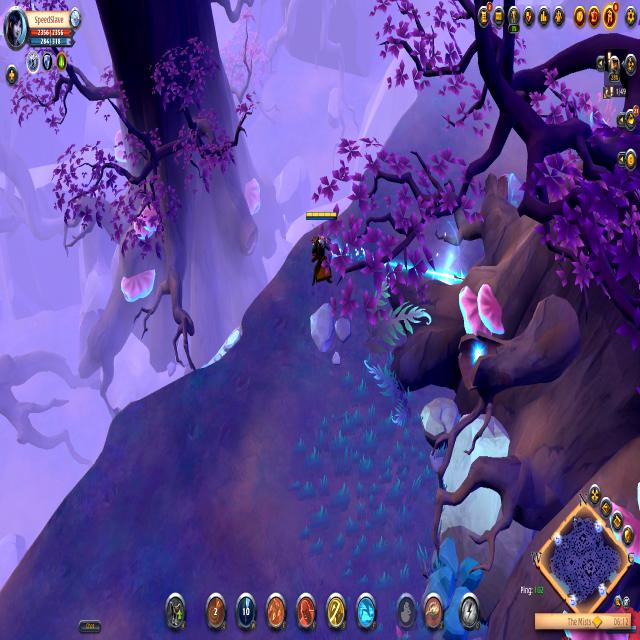red: (300, 203, 340, 291)
